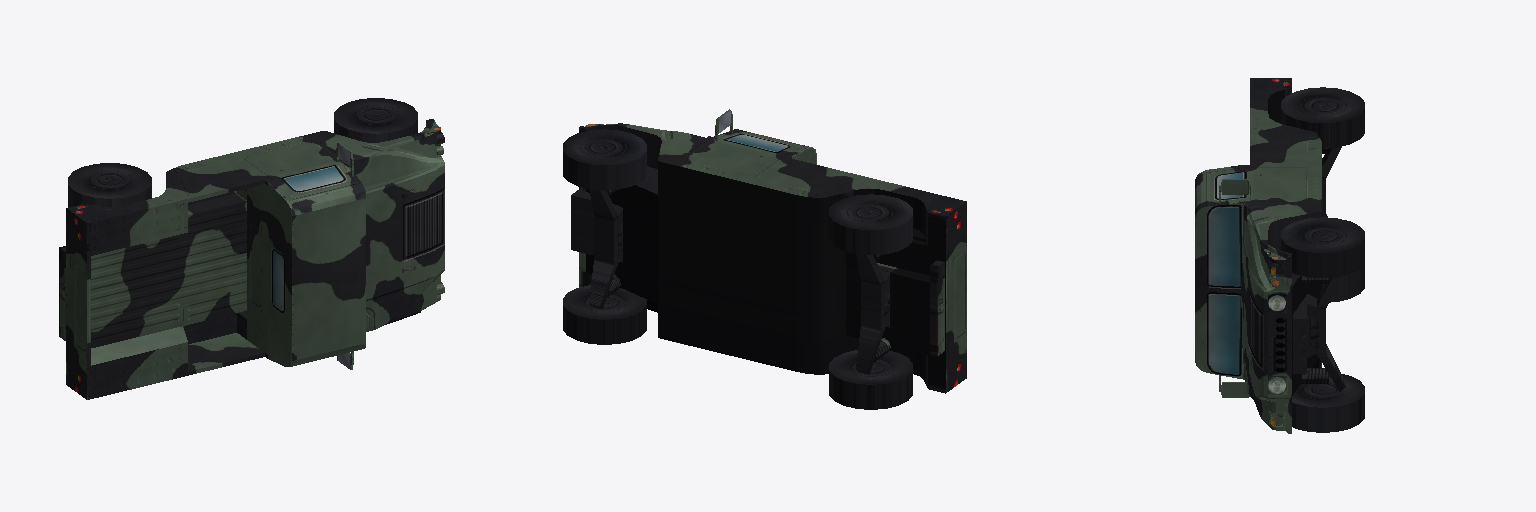
3 renders of one model, left to right at view 1: azimuth 30°, elevation 25°; view 2: azimuth 150°, elevation 25°; view 3: azimuth 270°, elevation 25°, orthographic.
Parts seen in each view (by area): view 1: object28, object18, object22, object16; view 2: object28, object16, object22, object18, object30, object8, object12; view 3: object28, object22, object18, object30, object12, object8.
Part boxes in pixels (bbox=[...]): object28: bbox=[66, 119, 444, 399]; object18: bbox=[68, 163, 151, 207]; object22: bbox=[334, 98, 417, 142]; object16: bbox=[59, 246, 65, 340]; object28: bbox=[579, 123, 966, 393]; object16: bbox=[856, 254, 944, 374]; object22: bbox=[563, 129, 646, 190]; object18: bbox=[829, 194, 912, 255]; object30: bbox=[571, 189, 622, 309]; object8: bbox=[829, 350, 912, 409]; object12: bbox=[563, 285, 646, 344]; object28: bbox=[1195, 78, 1321, 433]; object22: bbox=[1281, 217, 1364, 277]; object18: bbox=[1281, 87, 1364, 148]; object30: bbox=[1293, 276, 1345, 391]; object12: bbox=[1292, 374, 1364, 432]; object8: bbox=[1322, 264, 1364, 302].
Size of the model in its own units: 4.59 by 2.6 by 1.84.
1 materials, 1 textured.